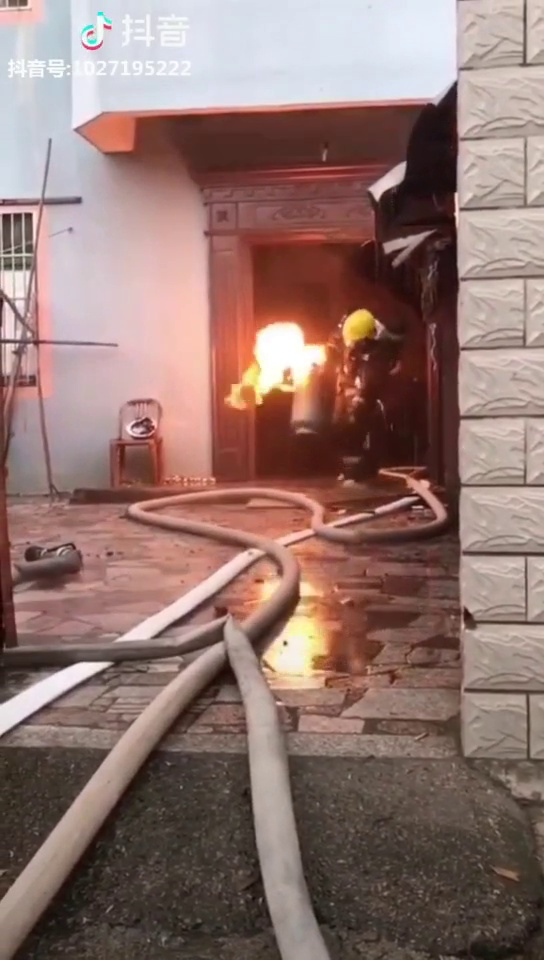fire: (234, 319, 319, 397)
